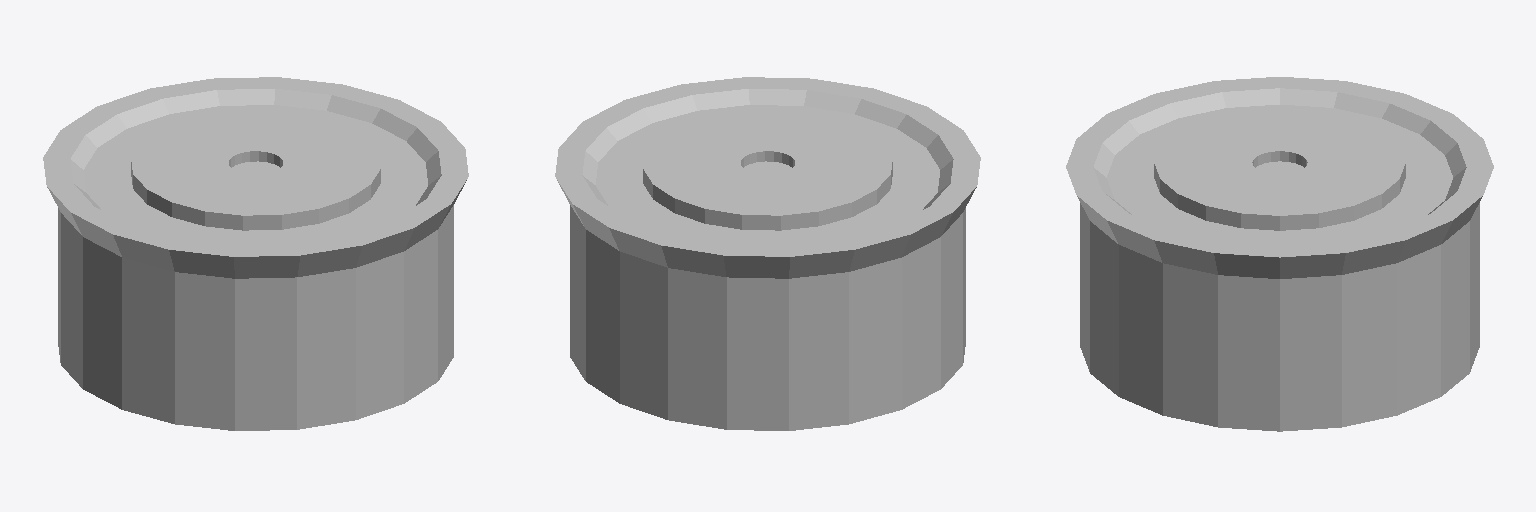
Rendered from TurretMount.obj.
3 views of the same model, side by side, from view 1: azimuth 30°, elevation 25°; view 2: azimuth 150°, elevation 25°; view 3: azimuth 270°, elevation 25° (orthographic).
Size of the model in its own units: 6.97 by 3.35 by 6.97.